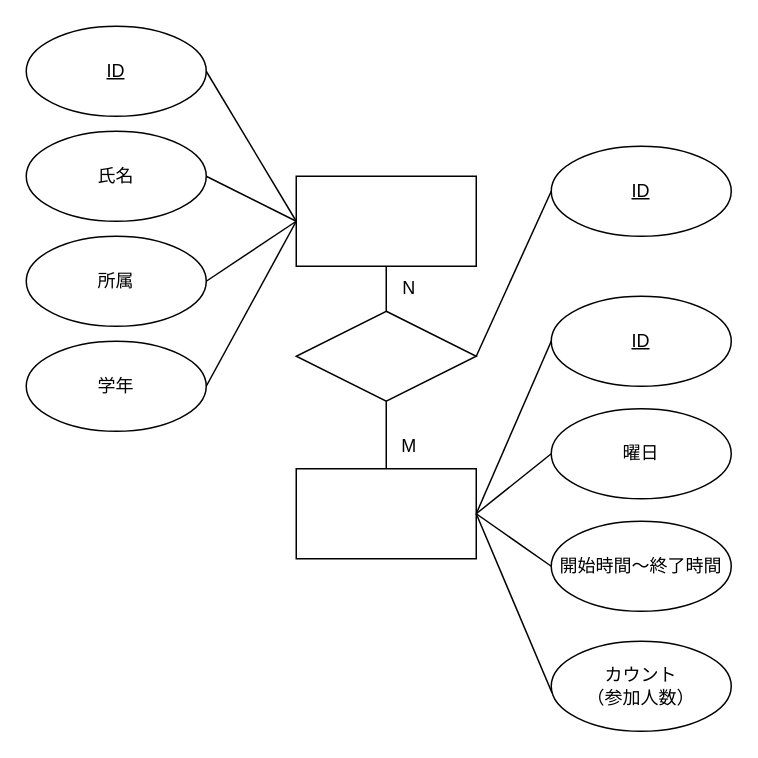
Image size: 758x758. Some labels were removed from this diagram. Each missing label, with the centre of its shape:
参加者: the point at 385,220
日程: the point at 385,513
調整: the point at 385,355
